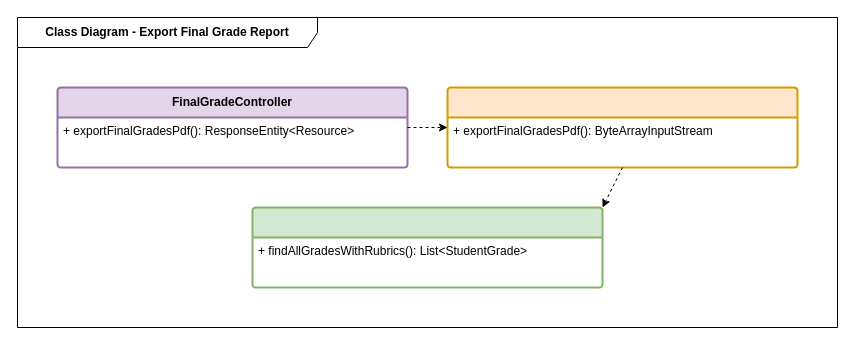
Image size: 855x345. Some labels were removed from this diagram. Each missing label, with the box of its shape:
<<Interface>> FinalGradeRepository: (251, 206, 603, 288)
PdfExportServiceImpl: (446, 86, 798, 168)
